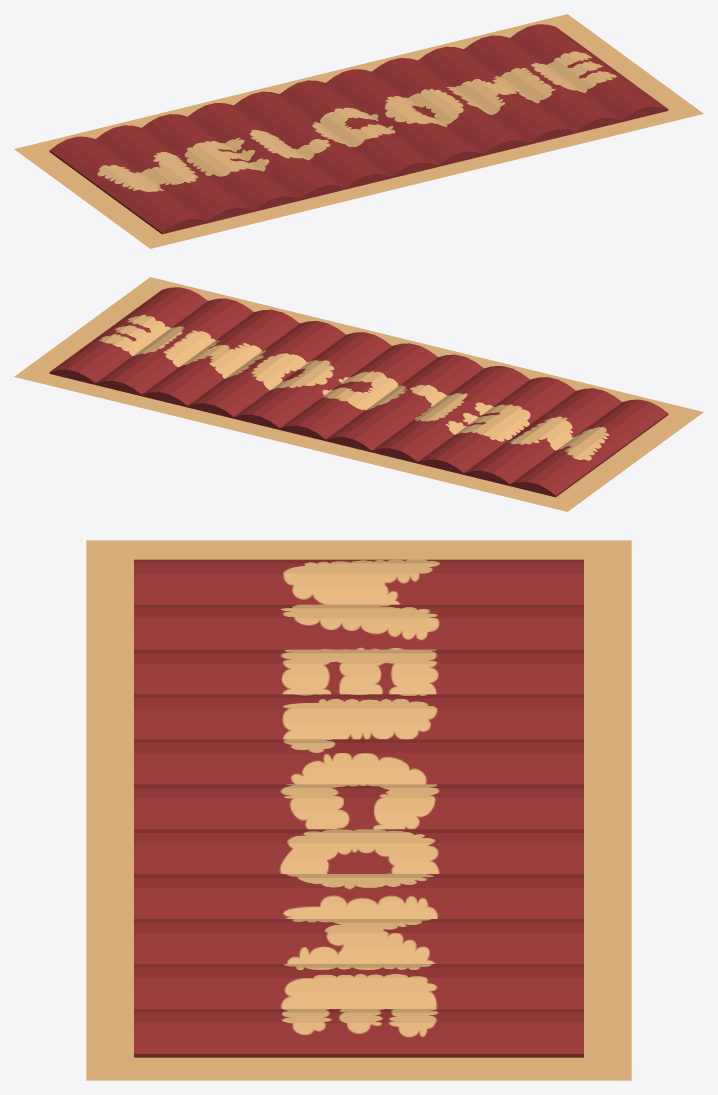
The model's file is pintumainmenukesetbaguts.fbx.
3 views of the same model, one above another, from view 1: azimuth 30°, elevation 25°; view 2: azimuth 150°, elevation 25°; view 3: azimuth 270°, elevation 25° (orthographic). The views are drawn at different scales.
Parts seen in each view (by area): view 1: Plane.002; view 2: Plane.002; view 3: Plane.002.
Boxes of the visible parts, x1,y1,x2,y2 form: Plane.002: [14, 14, 703, 248]; Plane.002: [14, 277, 703, 511]; Plane.002: [86, 540, 631, 1080].
Size of the model in its own units: 469 by 6.99 by 200.
